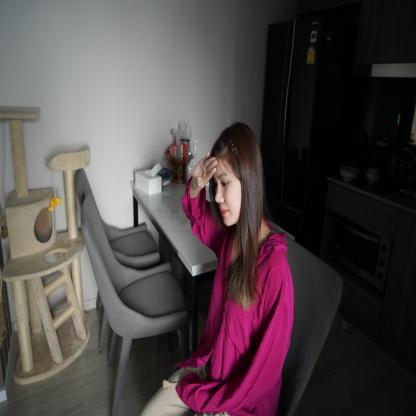Sick: (189, 147, 220, 197)
